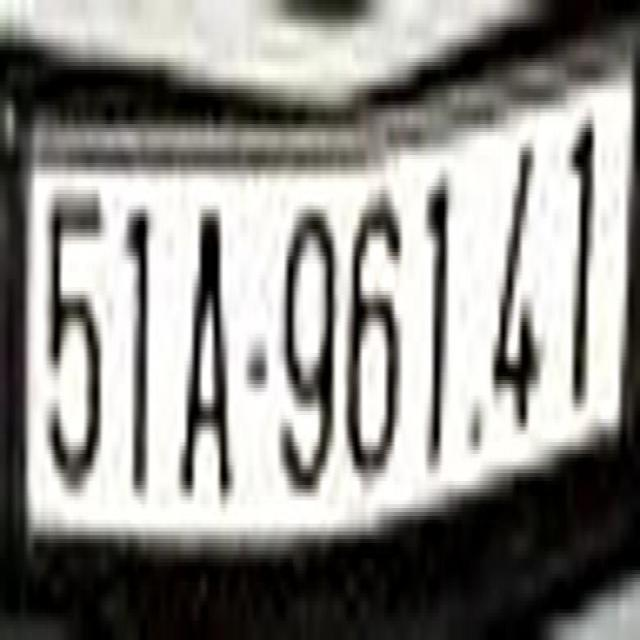1: (115, 166, 165, 508), (560, 96, 610, 438), (416, 136, 464, 477)
4: (484, 132, 548, 454)
5: (42, 174, 108, 500)
6: (342, 143, 410, 504)
9: (277, 167, 338, 520)
A: (175, 170, 238, 528)
